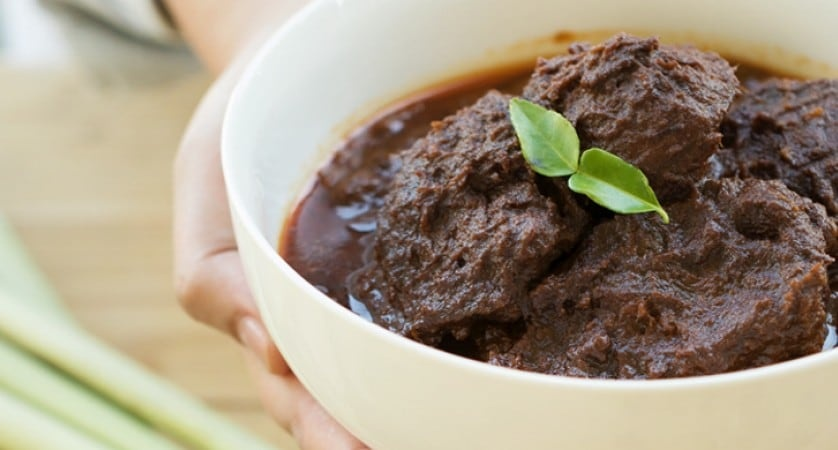rendang: (347, 33, 838, 381)
